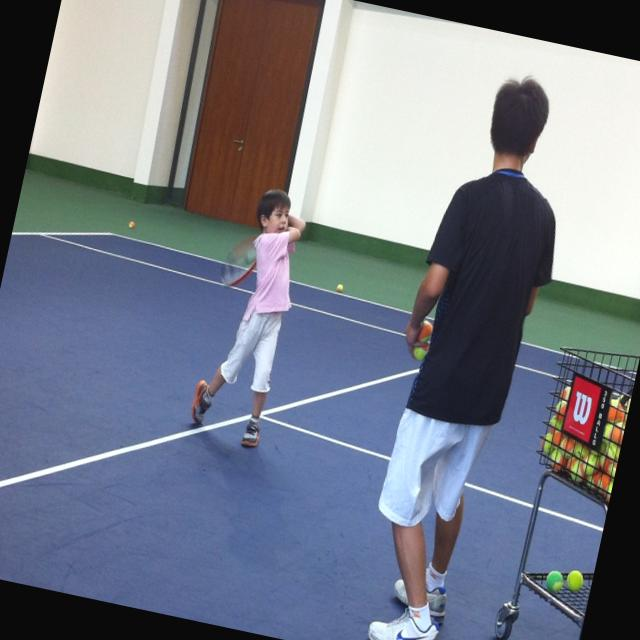Tennis ball: (532, 383, 630, 499), (544, 569, 562, 595), (564, 569, 584, 592), (126, 218, 136, 228), (334, 281, 344, 291)
